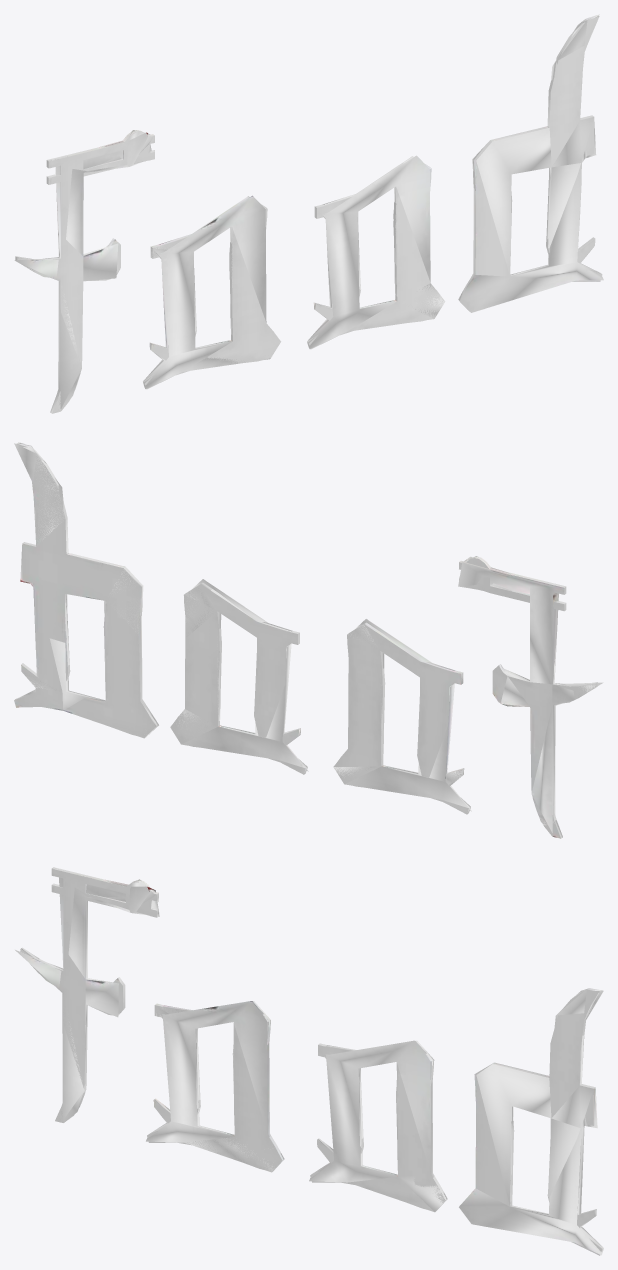
The model's file is sm_3dbillboard03.glb.
The picture shows the model from 3 angles, top to bottom: view 1: azimuth 30°, elevation 25°; view 2: azimuth 150°, elevation 25°; view 3: azimuth 330°, elevation 25°; orthographic projection.
Parts seen in each view (by area): view 1: sm_3dbillboard03_00; view 2: sm_3dbillboard03_00; view 3: sm_3dbillboard03_00.
Part boxes in pixels (box(x1,y1,x2,y2)): sm_3dbillboard03_00: box(14, 14, 603, 413); sm_3dbillboard03_00: box(14, 442, 603, 838); sm_3dbillboard03_00: box(15, 867, 603, 1255).
Size of the model in its own units: 2.84 by 1.22 by 0.034.
1 material, 1 textured.
